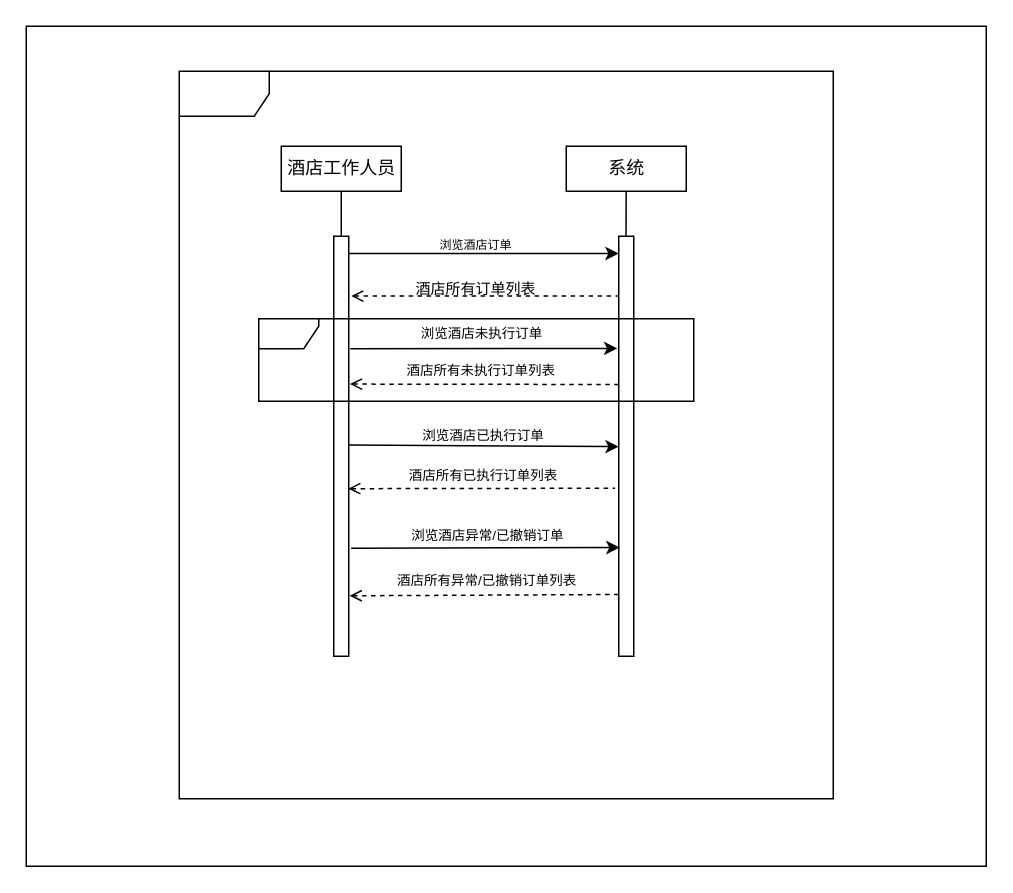
The diagram is 1013 pixels wide and 893 high, and some of its shapes have lost their labels. Each missing label, with the box of its shape:
opt: (257, 317, 694, 401)
浏览订单: (178, 70, 833, 799)
